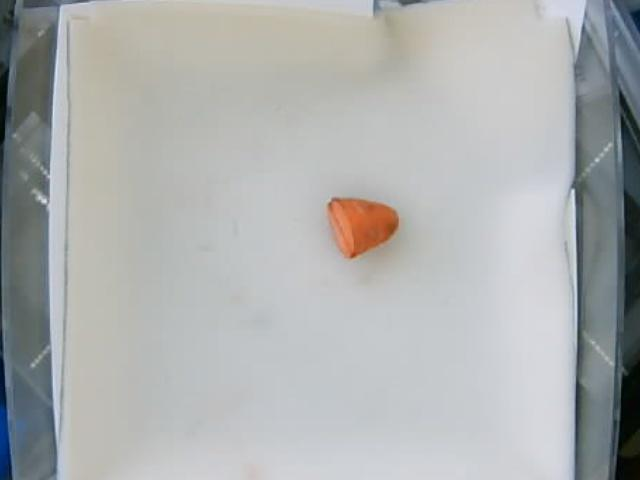Carrot: (328, 198, 401, 258)
